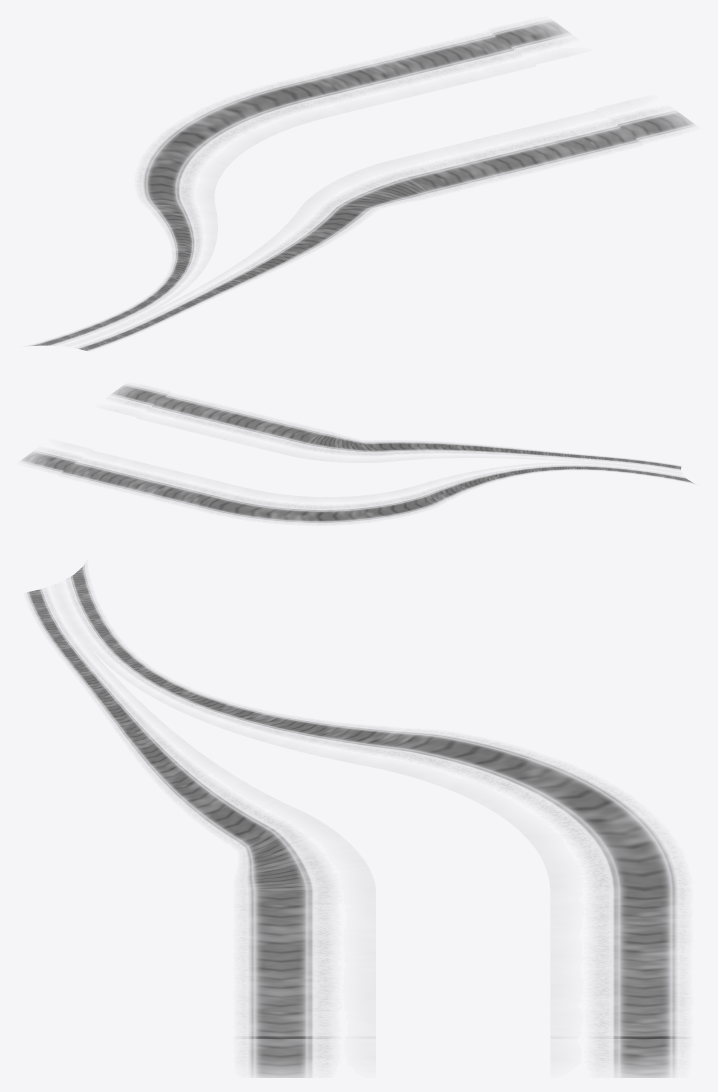
Rendered from trail_ext_hb1_v3_c4195f84.glb.
The picture shows the model from 3 angles, top to bottom: view 1: azimuth 30°, elevation 25°; view 2: azimuth 150°, elevation 25°; view 3: azimuth 270°, elevation 25°; orthographic projection. The views are drawn at different scales.
Parts seen in each view (by area): view 1: Trail_Ext_HB1; view 2: Trail_Ext_HB1; view 3: Trail_Ext_HB1.
Boxes of the visible parts, left/top/right/bottom form: Trail_Ext_HB1: left=29, top=20, right=693, bottom=350; Trail_Ext_HB1: left=22, top=384, right=693, bottom=524; Trail_Ext_HB1: left=26, top=564, right=688, bottom=1077.
Bounding box in the file's own units: 78.63 × 0.1824 × 42.57.
Materials: 1 (1 with a texture image).
